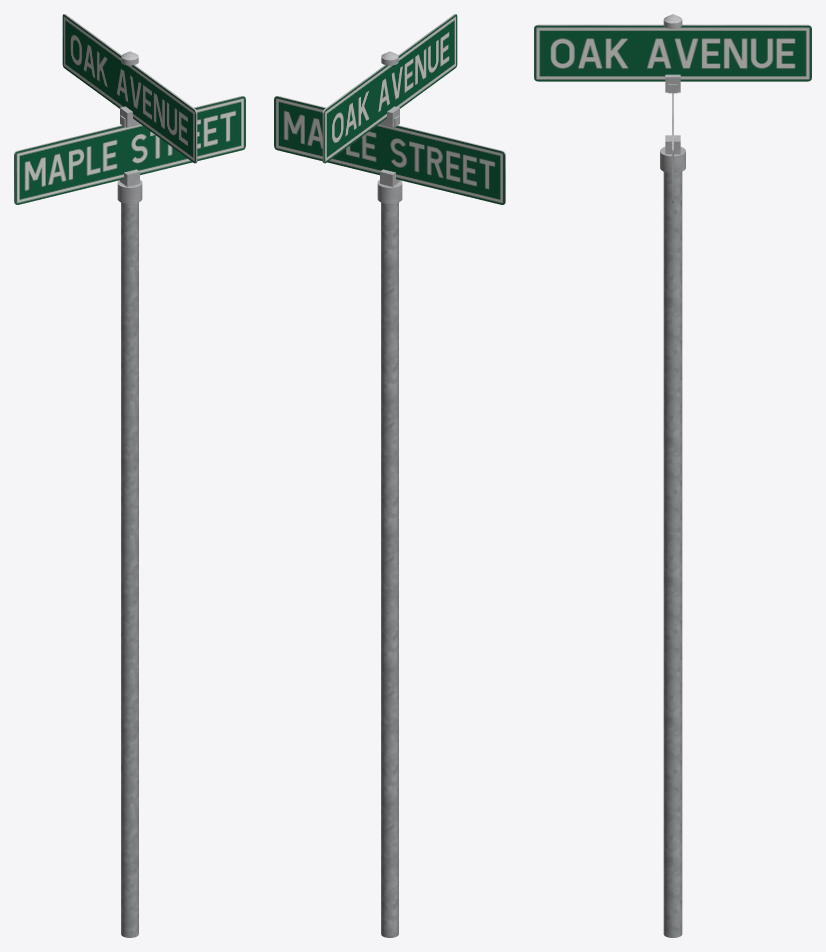
Rendered from street-name-sign.glb.
The picture shows the model from 3 angles, left to right: view 1: azimuth 30°, elevation 25°; view 2: azimuth 150°, elevation 25°; view 3: azimuth 270°, elevation 25°; orthographic projection. The views are drawn at different scales.
Visible parts, largest first — view 1: Street name sign assembly; view 2: Street name sign assembly; view 3: Street name sign assembly.
Boxes of the visible parts, <box> form: Street name sign assembly: <box>14,14,245,937</box>; Street name sign assembly: <box>274,14,505,937</box>; Street name sign assembly: <box>534,14,811,937</box>.
Bounding box in the file's own units: 0.9 × 3.29 × 0.9.
Materials: 3 (3 with a texture image).
